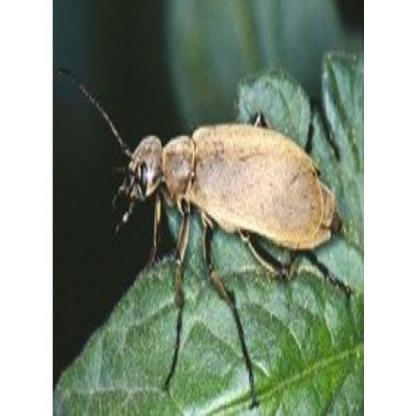blister beetle: (62, 67, 347, 406)
